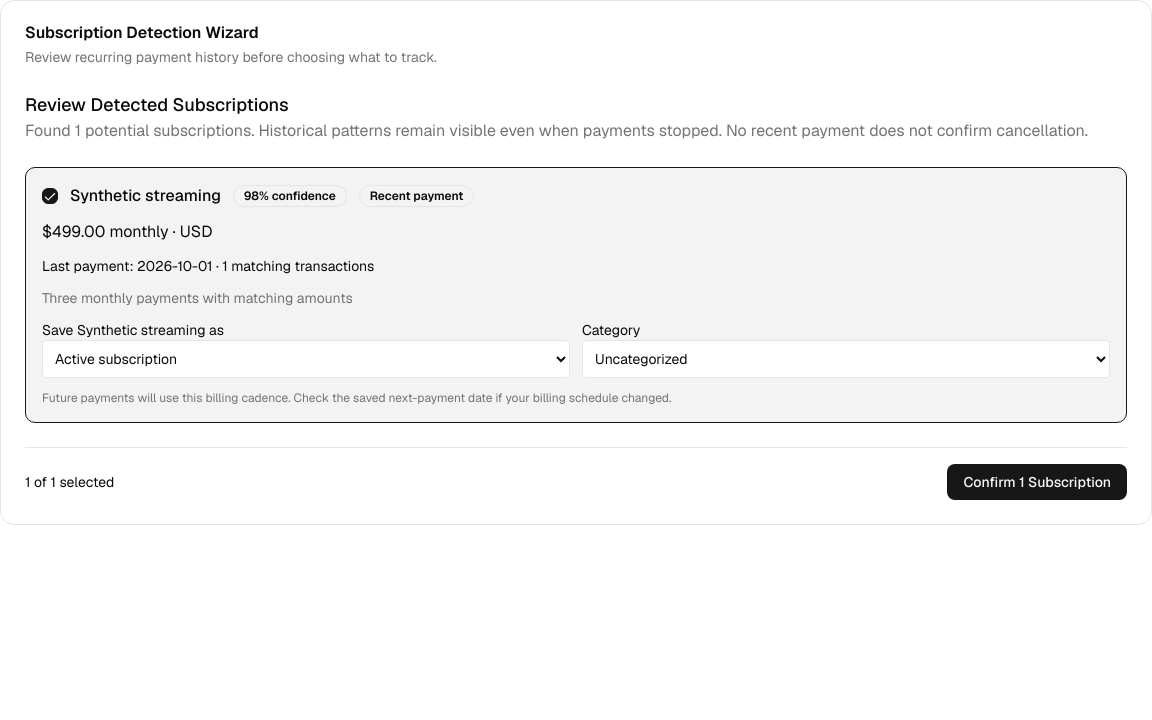
Scenario: detected payment review › retains selection and allows a retry after failed atomic persistence
This screenshot has width=1152, height=720.
Step 1. Click the button "Confirm 1 Subscription" → (1037, 482), box [947,464,1127,500]
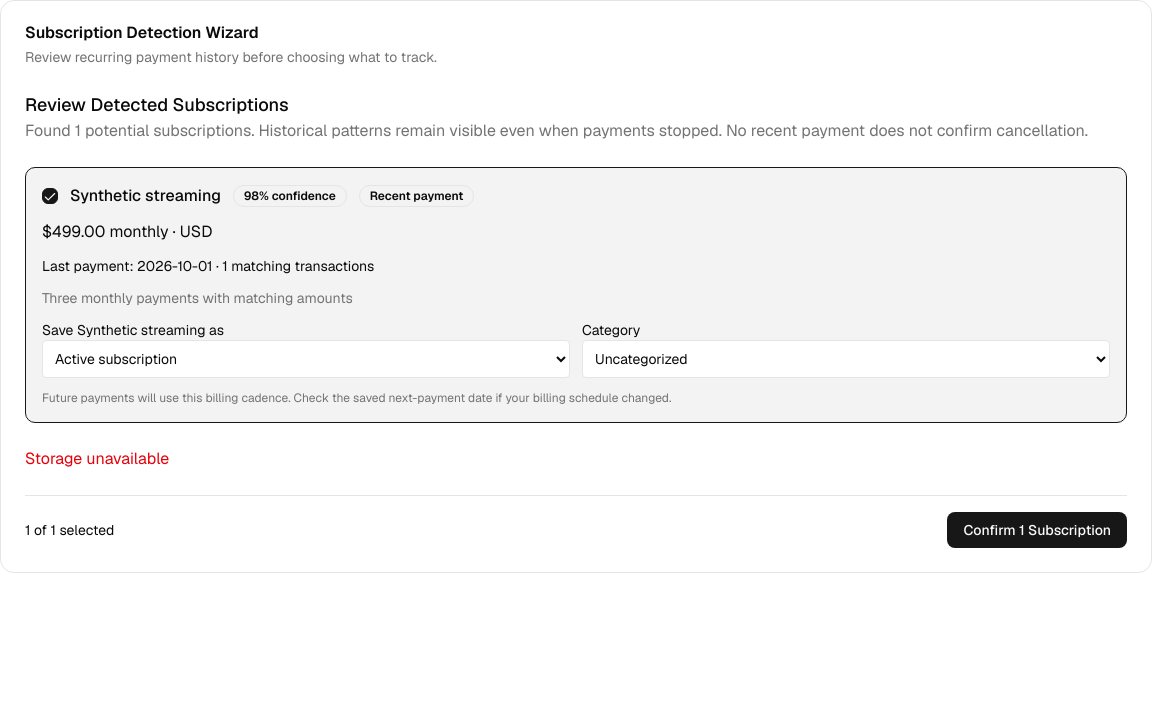
Expected: the text "Detection Complete!" is not shown
Expected: the message reads "Storage unavailable", [25,448,169,469]
Step 2. Click the button "Confirm 1 Subscription" → (1037, 530), box [947,512,1127,548]
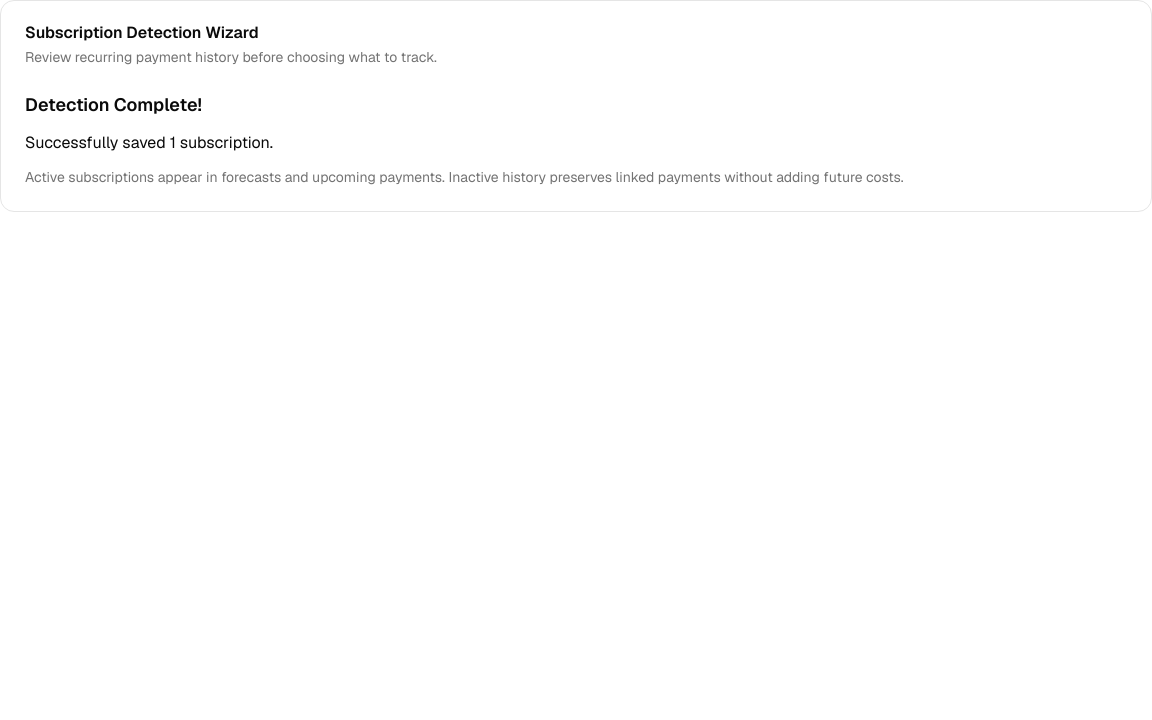
Expected: the heading "Detection Complete!" is shown, [25,93,202,116]
